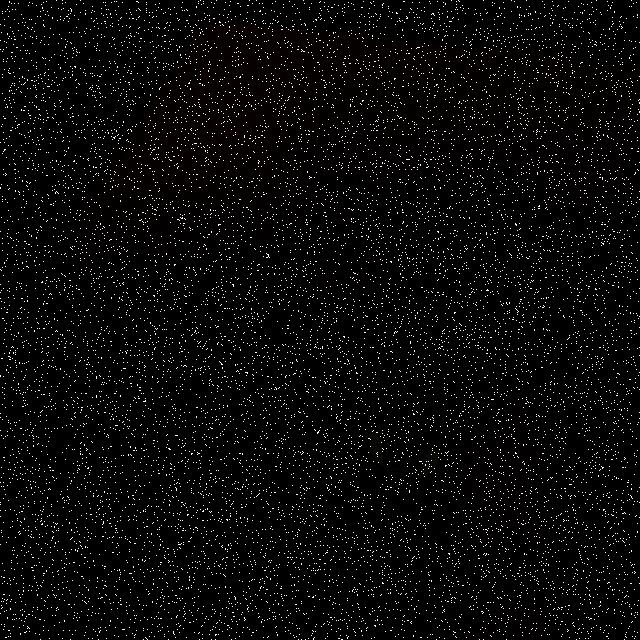adapter: (365, 336, 451, 476)
